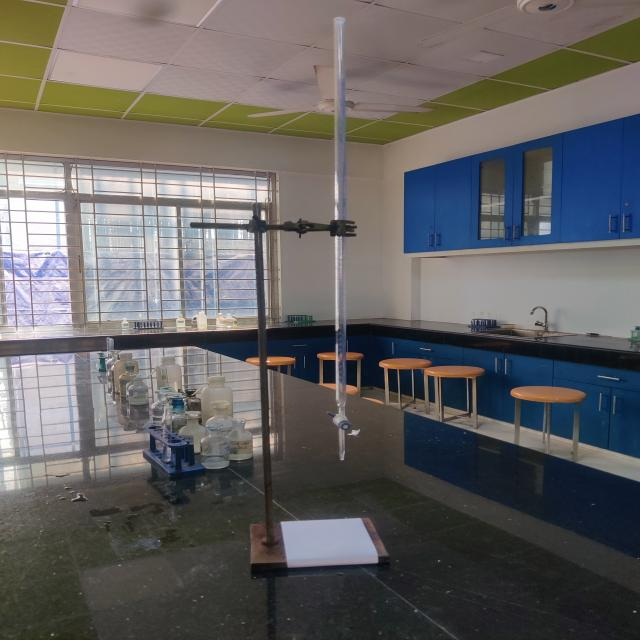Burette_Stands: (170, 8, 403, 588)
